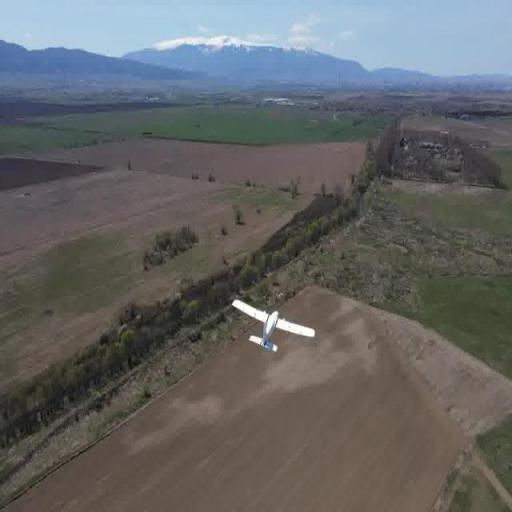uav: (230, 292, 316, 358)
